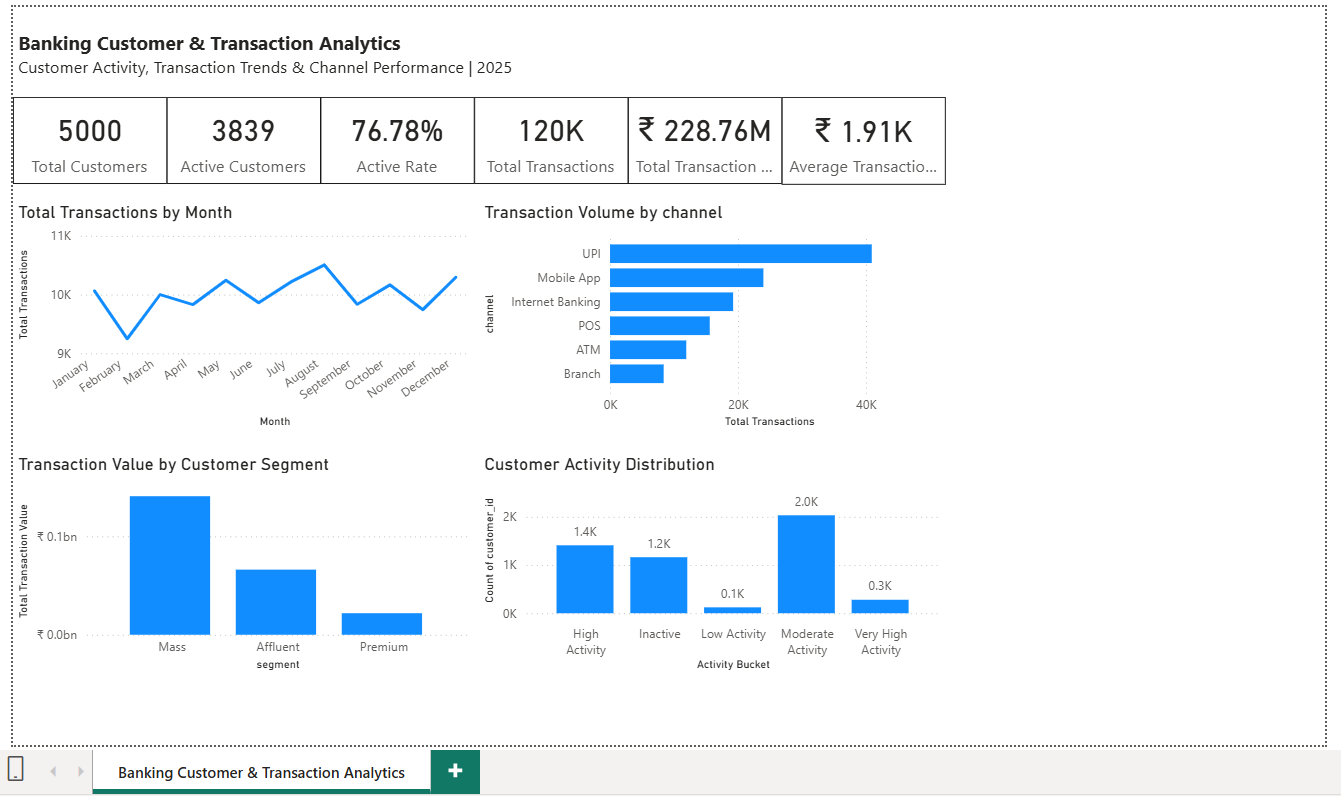

What the dashboard file says about the page in this screenshot:
{"tool":"powerbi","page":{"name":"Banking Customer & Transaction Analytics","canvas":[1280,720],"ordinal":0},"visuals":[{"type":"card","fields":{"Values":["customers.Total Customers"]},"box":[0,87.5,150,85],"z":0},{"type":"card","fields":{"Values":["customers.Active Rate"]},"box":[300,87.5,150,85],"z":1000},{"type":"card","fields":{"Values":["transactions.Total Transactions"]},"box":[450.6,88,149.4,84.3],"z":2000},{"type":"card","fields":{"Values":["transactions.Total Transaction Value"]},"box":[600,88,189.2,84.3],"z":3000},{"type":"card","fields":{"Values":["transactions.Average Transaction Value"]},"box":[789.2,88,210.8,84.3],"z":4000},{"type":"card","fields":{"Values":["customers.Active Customers"]},"box":[150,87.5,150,85],"z":5000},{"type":"lineChart","fields":{"Category":["transactions.transaction_month.Variation.Date Hierarchy.Month"],"Y":["transactions.Total Transactions"]},"box":[0,190.4,472.3,225.3],"z":6000},{"type":"clusteredBarChart","title":"Transaction Volume by channel","fields":{"Category":["transactions.channel"],"Y":["transactions.Total Transactions"]},"box":[489.2,190.4,510.8,225.3],"z":7000},{"type":"clusteredColumnChart","title":"Transaction Value by Customer Segment","fields":{"Category":["customers.segment"],"Y":["transactions.Total Transaction Value"]},"box":[0,434.9,489.2,218.1],"z":8000},{"type":"clusteredColumnChart","title":"Customer Activity Distribution","fields":{"Category":["Customer Activity.Activity Bucket"],"Y":["Count(Customer Activity.customer_id)"]},"box":[489.2,434.9,510.8,218.1],"z":9000},{"type":"textbox","box":[0,0,909.8,76.8],"z":10000}]}

Visuals, with their boxes on the page's 1280x720 design canvas (x1, y1, x2, y2). These are canvas units, not pixel positions in the 1341x796 screenshot, which may show the page scaled, cropped or inside an application window:
card - customers.Total Customers: [left=0, top=88, right=150, bottom=172]
card - customers.Active Rate: [left=300, top=88, right=450, bottom=172]
card - transactions.Total Transactions: [left=451, top=88, right=600, bottom=172]
card - transactions.Total Transaction Value: [left=600, top=88, right=789, bottom=172]
card - transactions.Average Transaction Value: [left=789, top=88, right=1000, bottom=172]
card - customers.Active Customers: [left=150, top=88, right=300, bottom=172]
lineChart - transactions.transaction_month.Variation.Date Hierarchy.Month x transactions.Total Transactions: [left=0, top=190, right=472, bottom=416]
"Transaction Volume by channel" clusteredBarChart: [left=489, top=190, right=1000, bottom=416]
"Transaction Value by Customer Segment" clusteredColumnChart: [left=0, top=435, right=489, bottom=653]
"Customer Activity Distribution" clusteredColumnChart: [left=489, top=435, right=1000, bottom=653]
textbox: [left=0, top=0, right=910, bottom=77]
